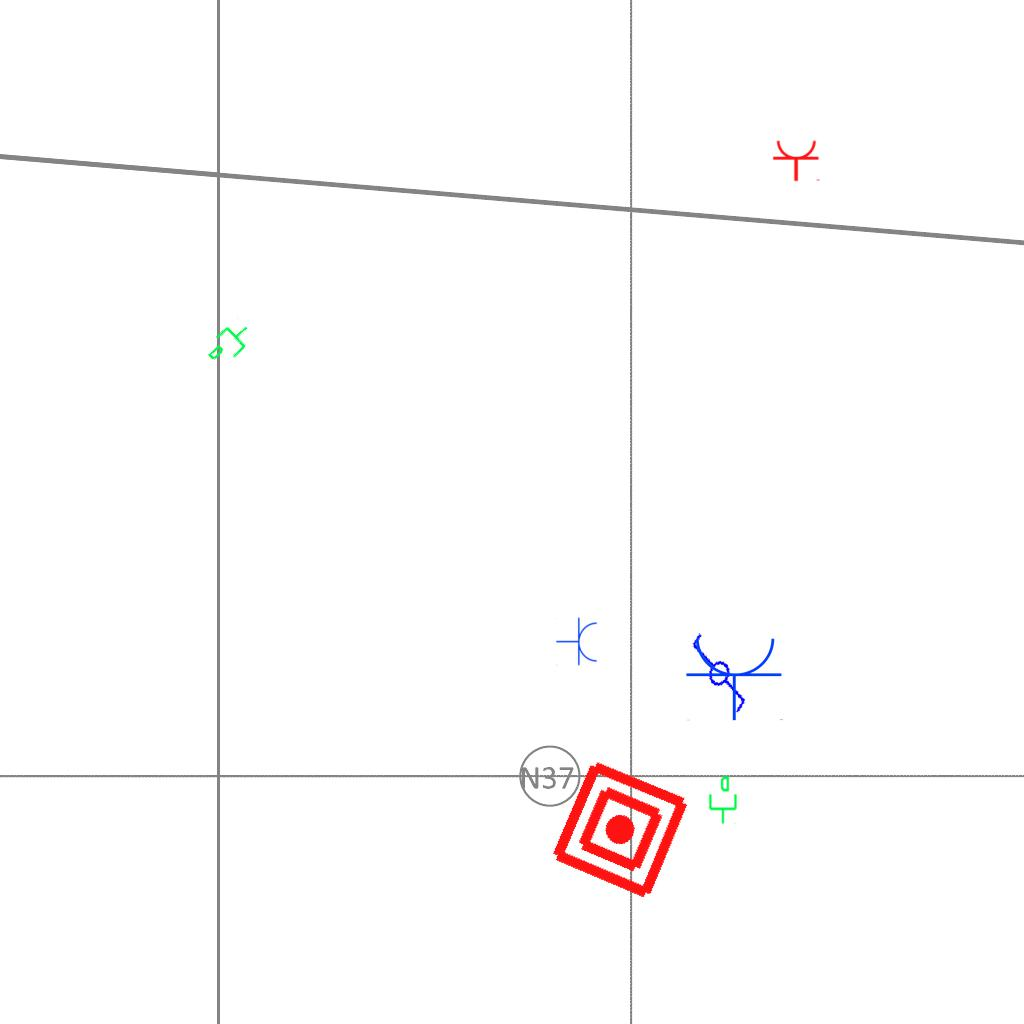Datenanschluss_einfach: (200, 314, 260, 374), (705, 775, 739, 825)
NAM-Nichtautomatischer_Melder: (546, 755, 695, 904)
Schukosteckdose_einfach: (685, 634, 785, 721), (556, 617, 599, 667), (772, 139, 822, 182)
Wechselschalter: (671, 629, 763, 725)
